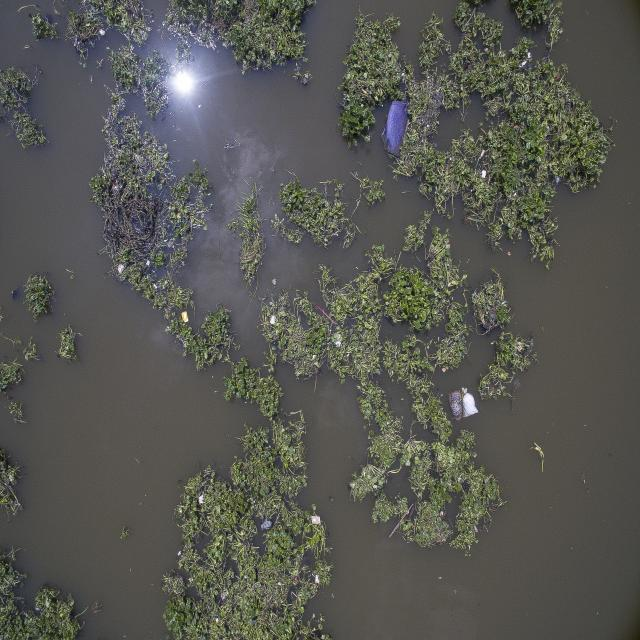debris: (381, 104, 408, 152), (388, 502, 416, 539), (316, 303, 337, 326), (259, 519, 274, 531), (310, 513, 322, 526), (334, 334, 344, 348), (180, 311, 190, 324), (268, 314, 278, 327), (116, 262, 125, 275), (314, 572, 322, 584), (480, 168, 488, 180), (199, 492, 205, 506), (98, 27, 106, 37), (554, 175, 562, 185), (485, 518, 492, 528), (525, 52, 534, 59), (519, 61, 526, 70), (152, 282, 158, 291), (372, 481, 378, 490), (145, 258, 151, 266), (456, 477, 463, 483), (272, 278, 277, 285)
plastic: (448, 388, 478, 422), (10, 286, 21, 306), (43, 12, 55, 30), (36, 66, 45, 80), (513, 377, 522, 391), (250, 615, 260, 625), (478, 149, 486, 159), (473, 522, 479, 535), (33, 605, 42, 613), (324, 530, 332, 539), (13, 415, 21, 422), (177, 550, 182, 560), (295, 573, 300, 582), (137, 501, 143, 508), (400, 72, 407, 78), (528, 63, 533, 69), (434, 141, 437, 148)
